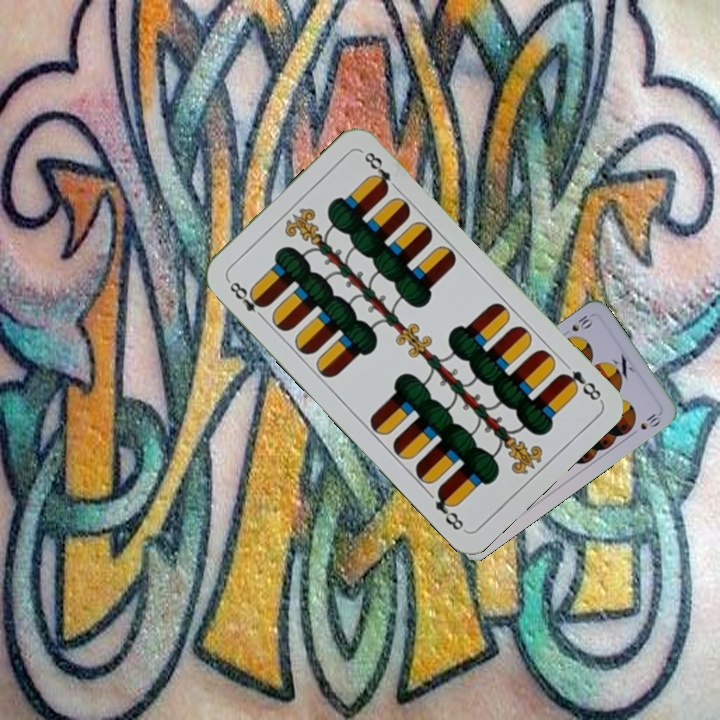E8: (223, 275, 270, 323), (556, 367, 604, 404)
S10: (558, 311, 596, 339)
